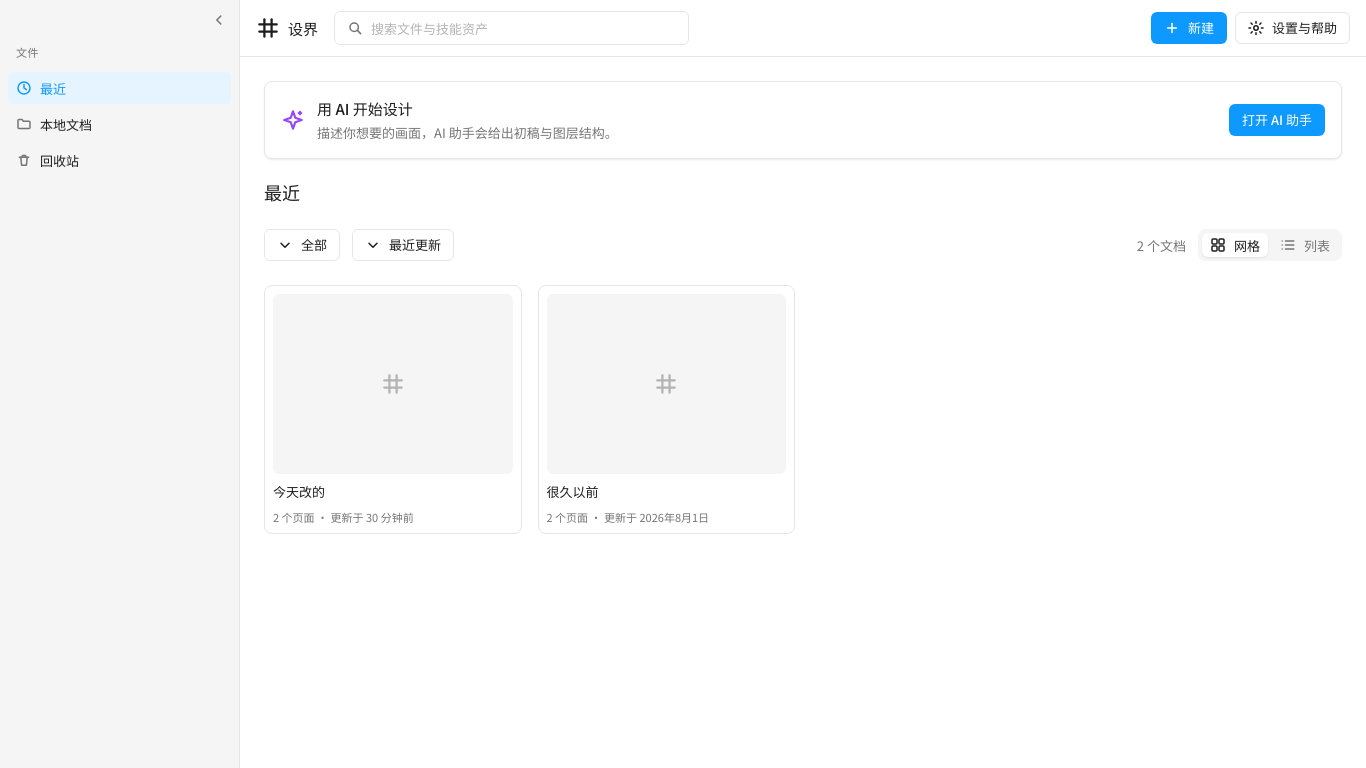
Scenario: HomeView · 搜索与筛选 › 时间范围筛选到「今天」时，早于窗口的文档被挡掉
Expected: the link with aria-label "打开「很久以前」" is shown, [538,285,795,534]
Click the button with aria-label "时间范围：全部".
click(302, 245)  # box [264,229,340,261]
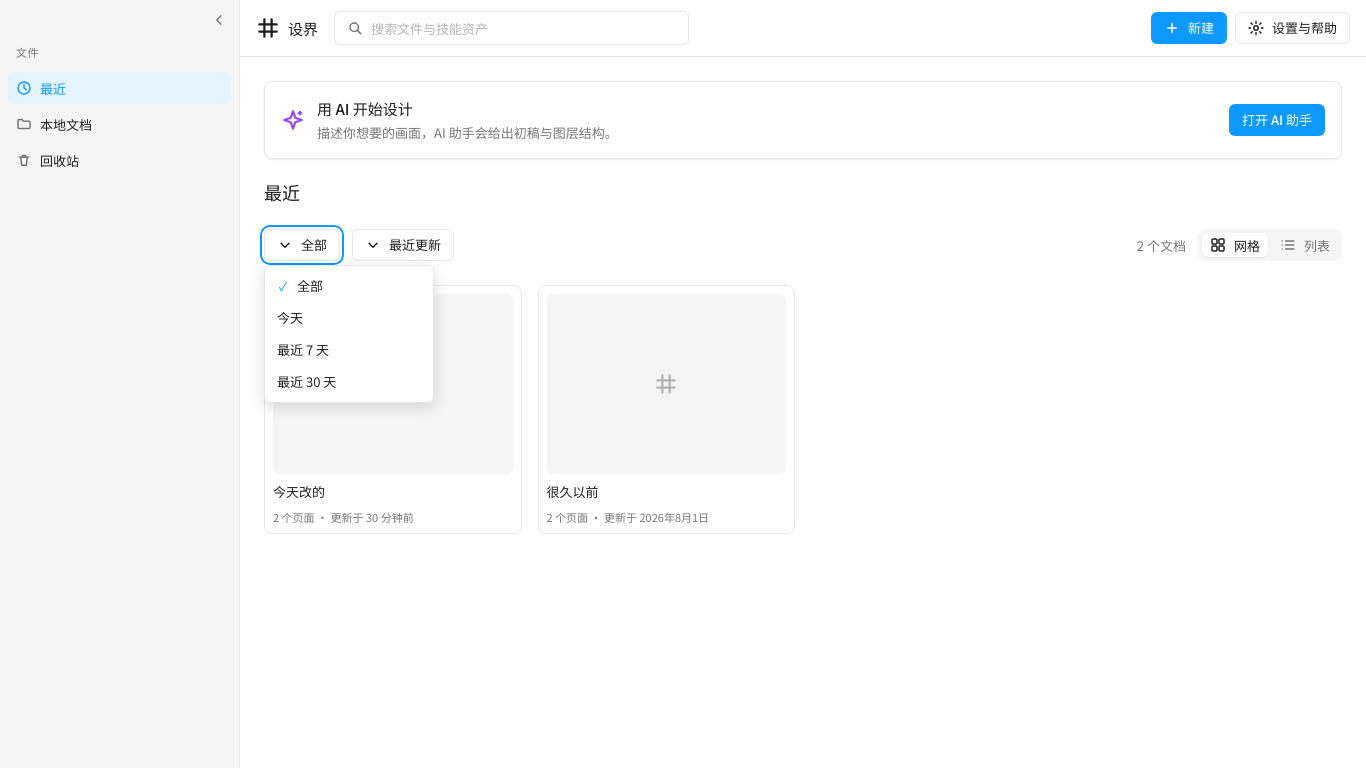
Click the menu item "今天".
click(349, 318)  # box [269,302,429,334]
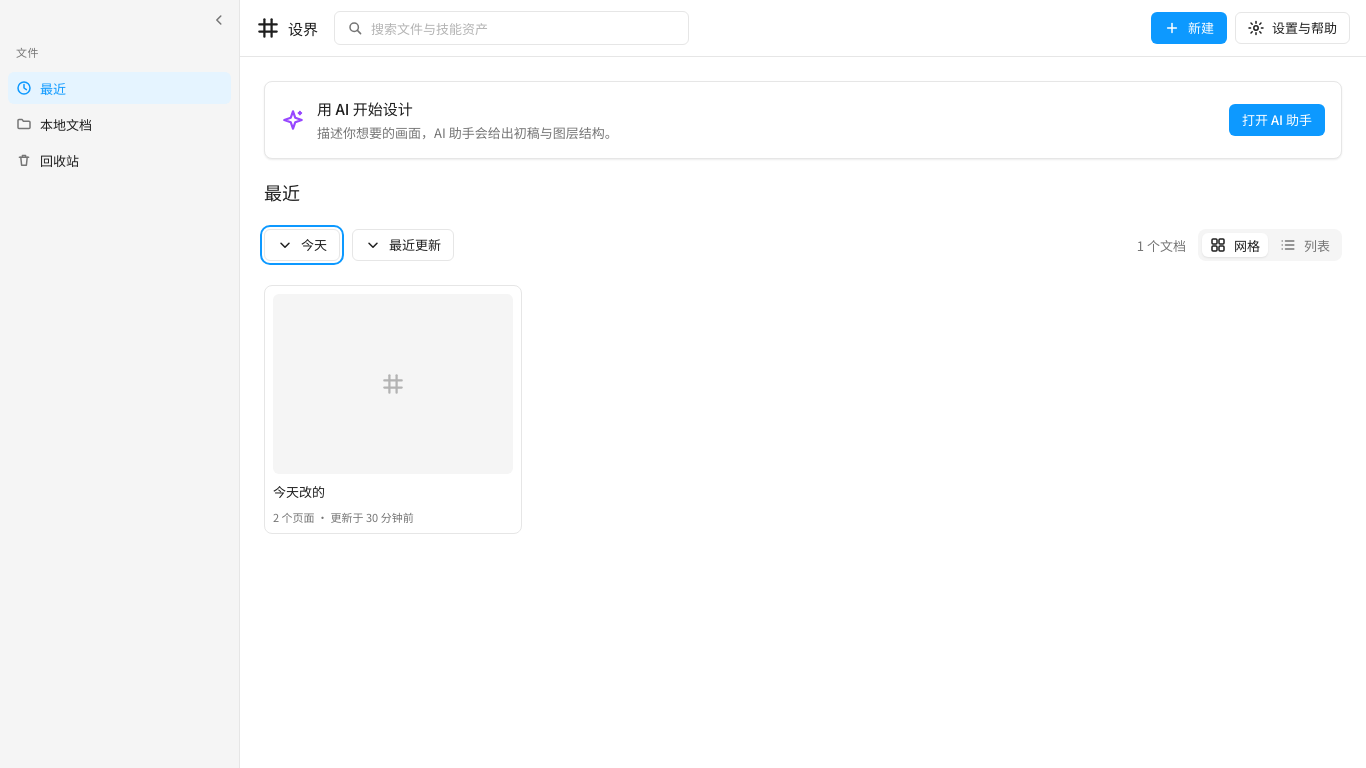
Expected: the link "打开「很久以前」" is gone
